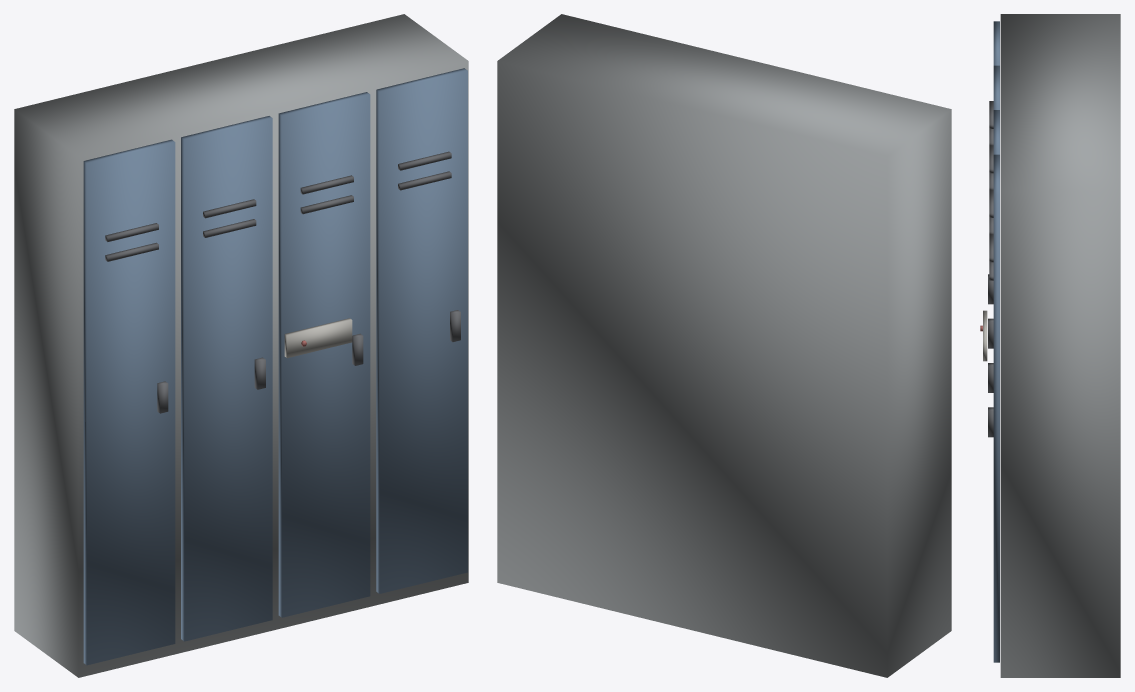
The model's file is property_locker_bank__tall.glb.
3 views of the same model, side by side, from view 1: azimuth 30°, elevation 25°; view 2: azimuth 150°, elevation 25°; view 3: azimuth 270°, elevation 25° (orthographic). The views are drawn at different scales.
Visible parts, largest first — view 1: world; view 2: world; view 3: world.
Part boxes in pixels (x1,y1,x2,y2): world: (14,14,468,677); world: (497,14,951,677); world: (980,14,1120,677).
Bounding box in the file's own units: 1.68 × 2.15 × 0.561.
